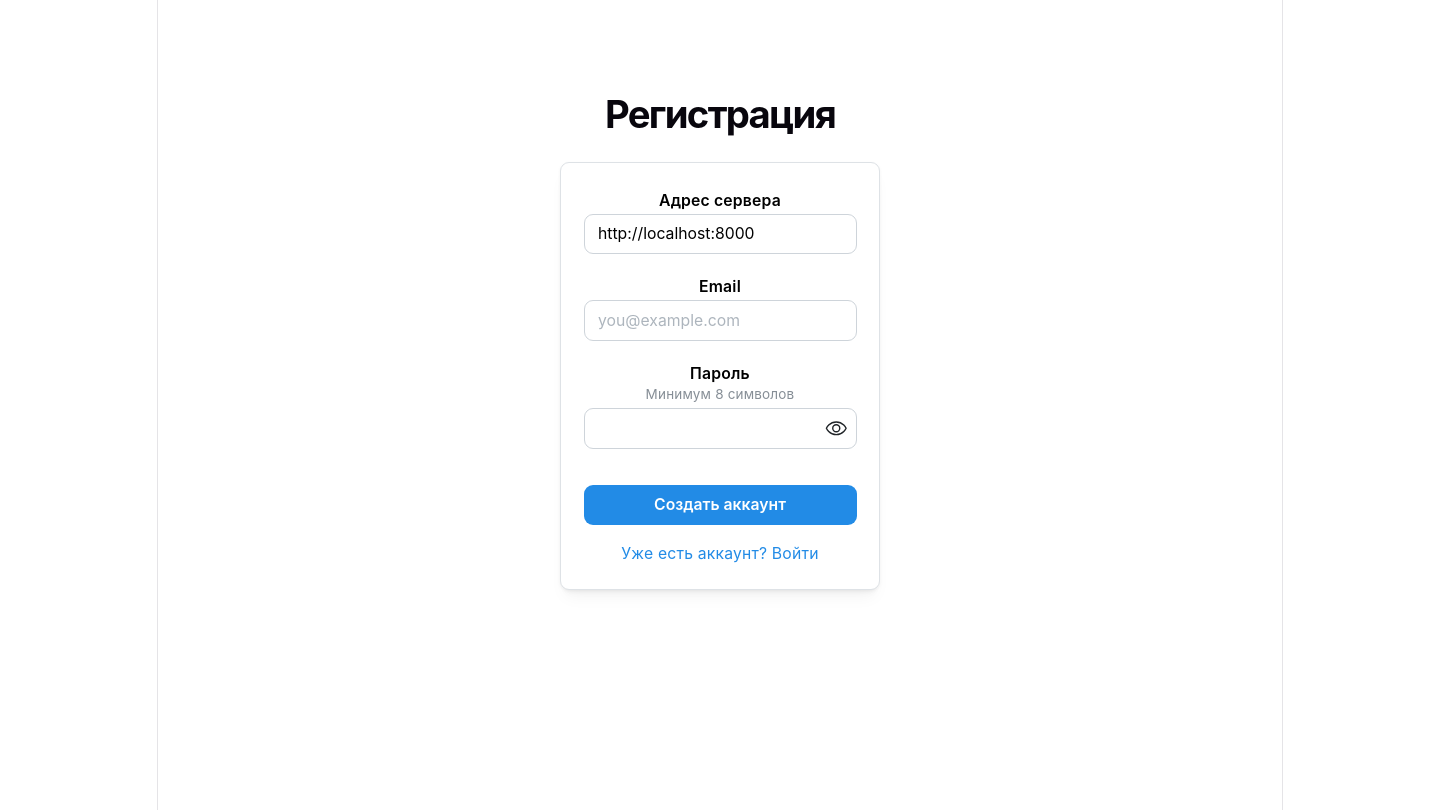
Test: в приложении сбой связи объясняется адресом сервера и причиной
Step 1. Type "a@b.c" into the field labelled "Email" → (720, 320), box [584,300,856,340]
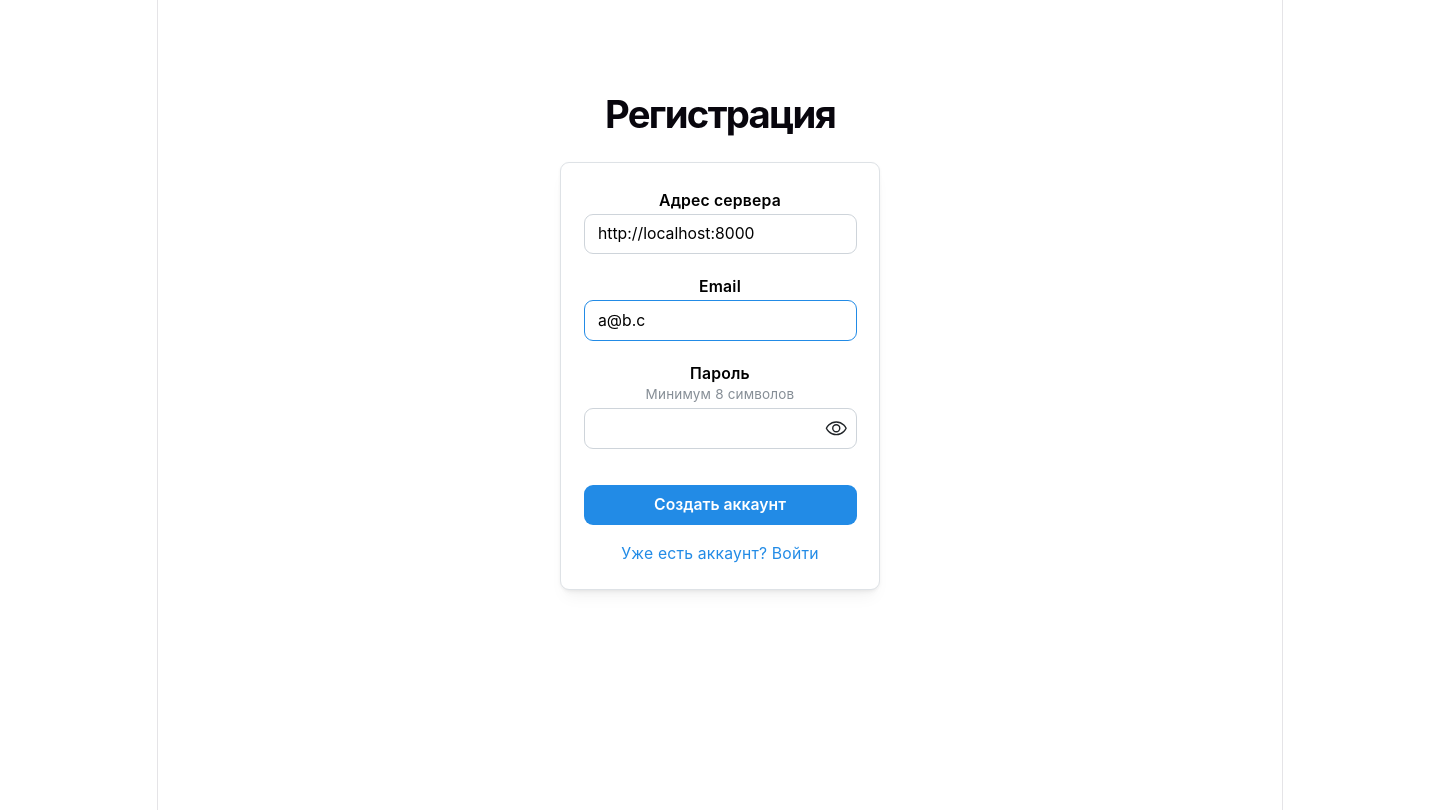
Step 2. Type "password123" into the password field labelled "Пароль" → (720, 428), box [584,409,856,448]
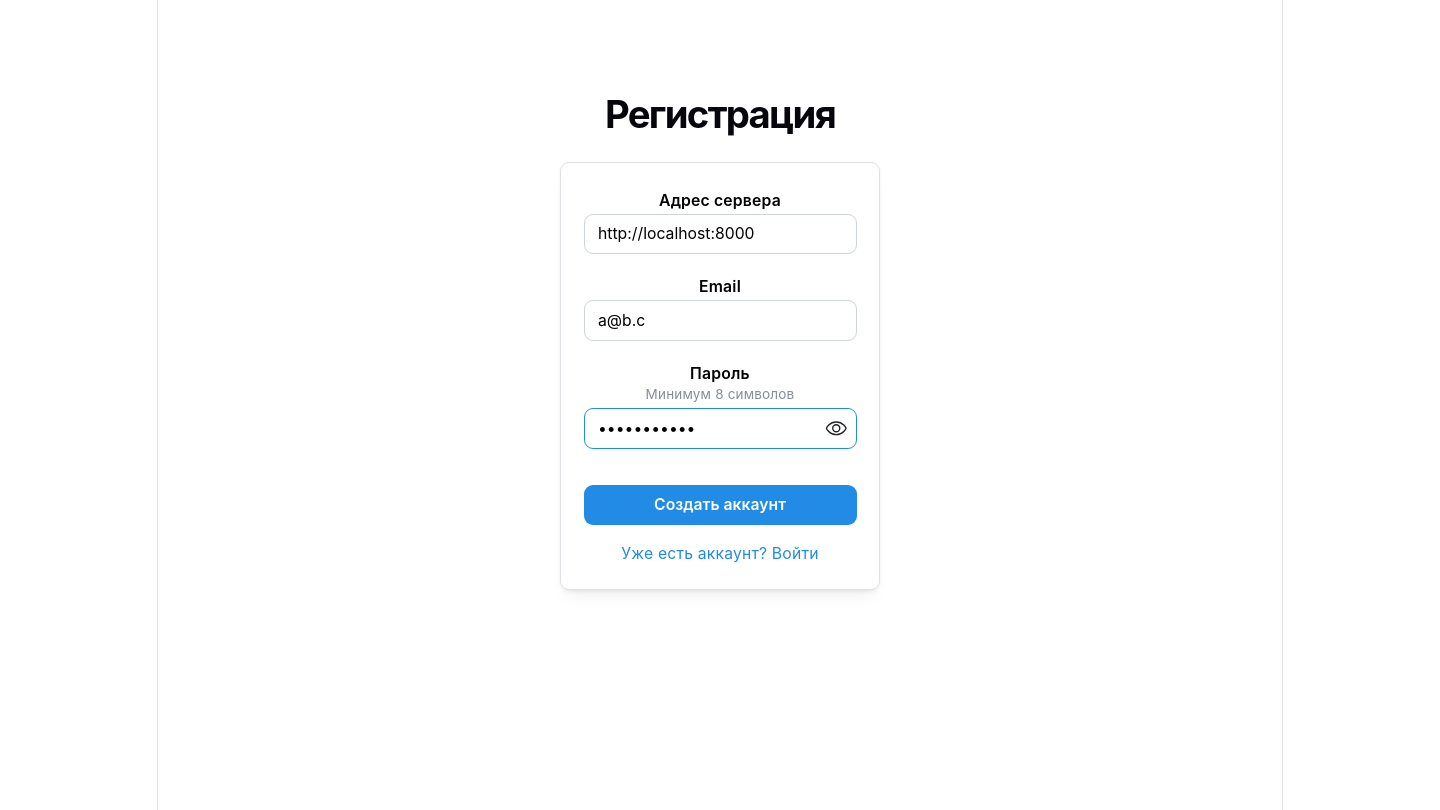
Step 3. Click the button "Создать аккаунт" → (720, 505), box [584,485,856,525]
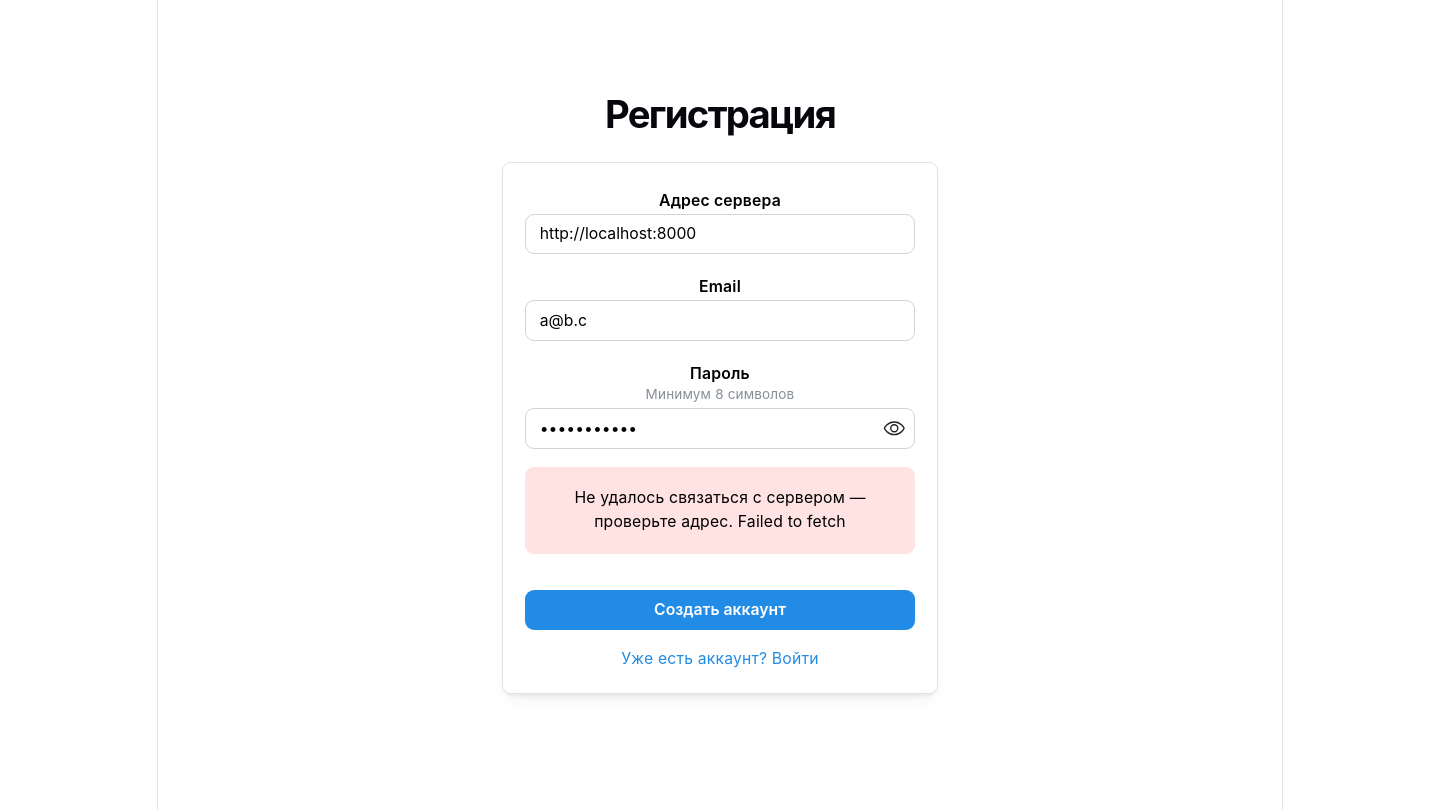
Result: the text "Failed to fetch" is shown at [574,488,866,531]
